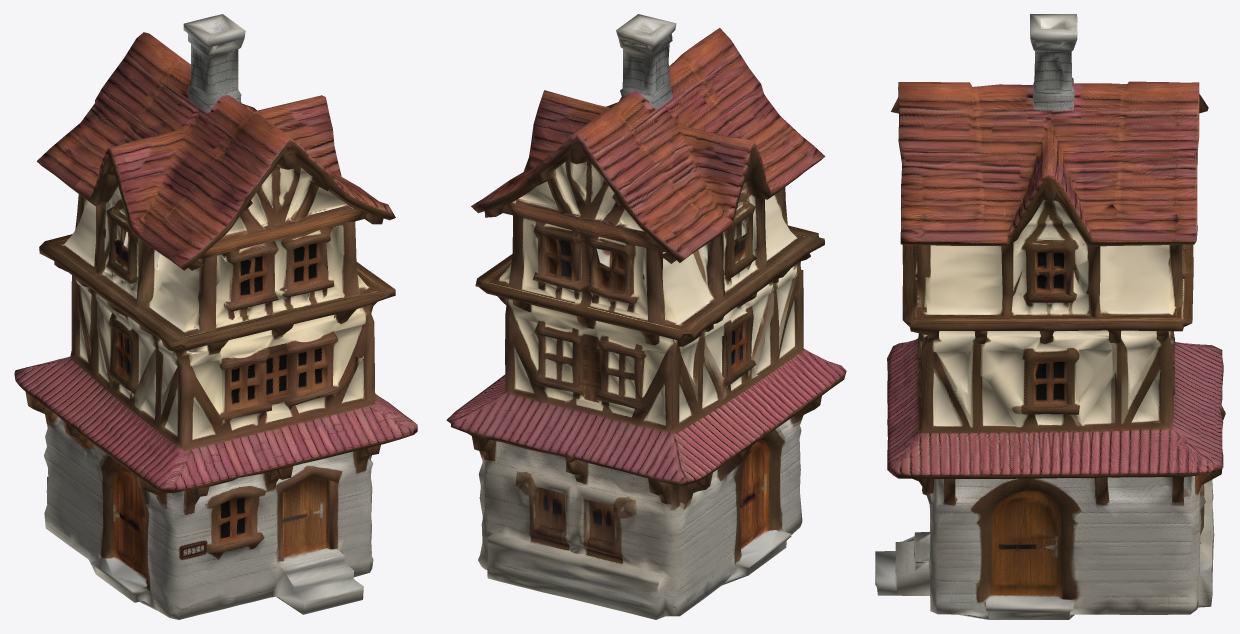
The model's file is house_medium.glb.
3 renders of one model, left to right at view 1: azimuth 30°, elevation 25°; view 2: azimuth 150°, elevation 25°; view 3: azimuth 270°, elevation 25°, orthographic. The views are drawn at different scales.
Parts seen in each view (by area): view 1: Mesh_0; view 2: Mesh_0; view 3: Mesh_0.
Part boxes in pixels (<box>): Mesh_0: <box>14,14,417,619</box>; Mesh_0: <box>446,14,846,619</box>; Mesh_0: <box>875,14,1225,619</box>.
Bounding box in the file's own units: 4.16 × 8 × 4.7.
1 material, 1 textured.
